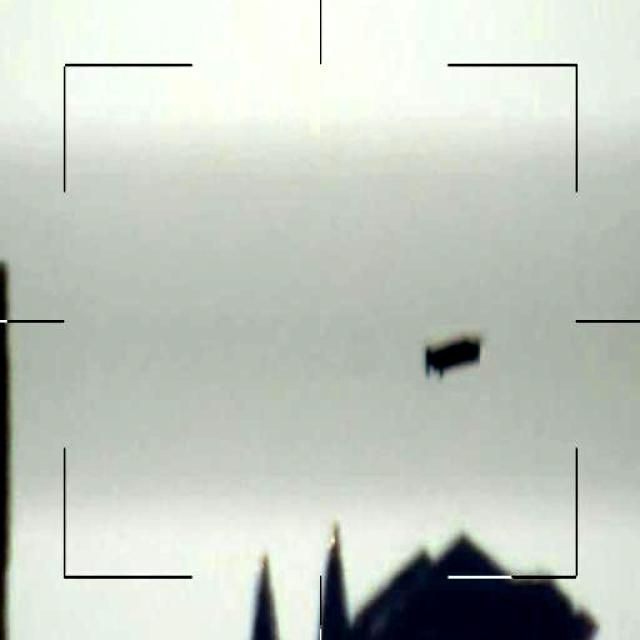bird: (420, 330, 485, 376)
